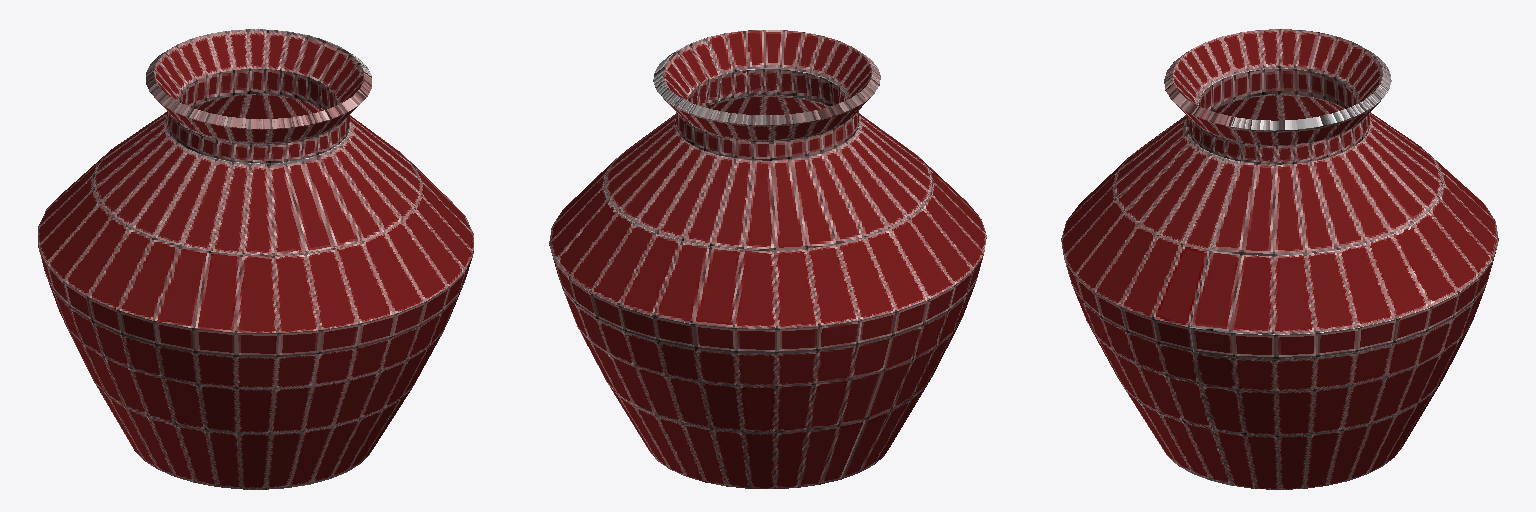
3 renders of one model, left to right at view 1: azimuth 30°, elevation 25°; view 2: azimuth 150°, elevation 25°; view 3: azimuth 270°, elevation 25°, orthographic.
Visible parts, largest first — view 1: Circle; view 2: Circle; view 3: Circle.
Part boxes in pixels (bbox=[...]): Circle: bbox=[38, 29, 473, 489]; Circle: bbox=[549, 30, 986, 488]; Circle: bbox=[1061, 29, 1498, 489].
Size of the model in its own units: 0.6601 by 0.6116 by 0.6601.
Materials: 1 (1 with a texture image).